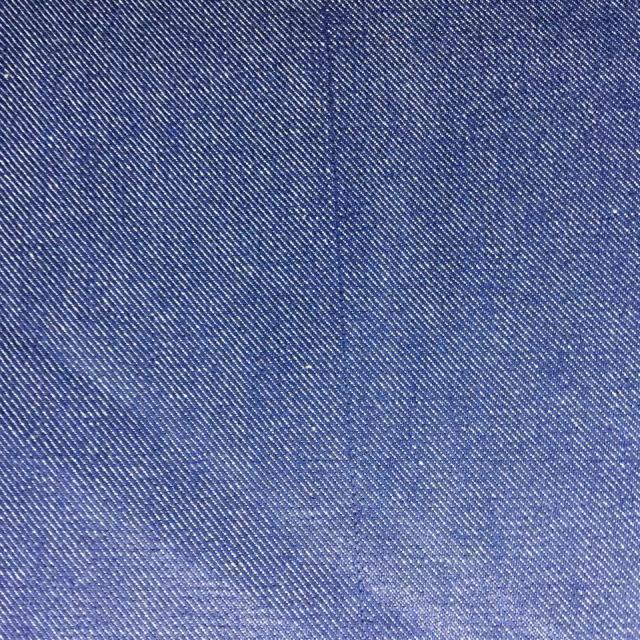Line: (317, 5, 378, 640)
